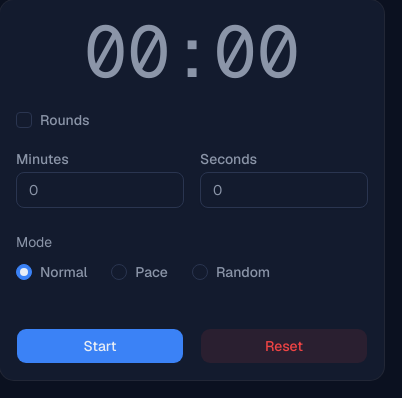
Test: Timer › 3.4 clamps seconds to 59
Type "75" into the number field labelled "Seconds". click: (284, 190)
box: [200,172,368,208]
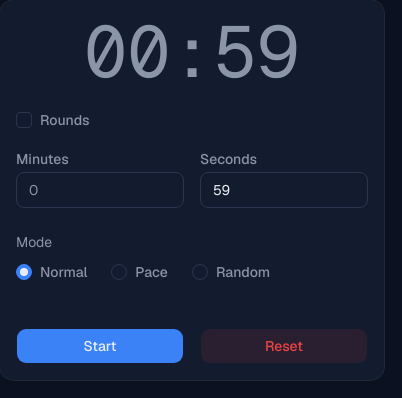
Now the number field labelled "Seconds" holds "59", box [200,172,368,208]
Now the number field labelled "Seconds" does not hold "75", box [200,172,368,208]
Now the text "00:59" is shown, box [84,16,300,88]
